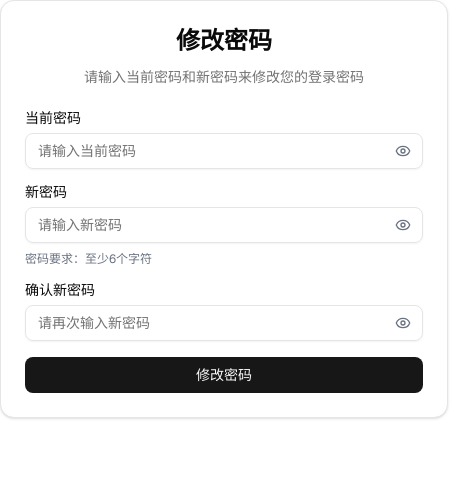
Test: ChangePasswordForm › 表单验证 › 应该显示错误当新密码长度不足
Type "oldpass123" into the password field labelled "当前密码" at coordinates (224, 151), box [25, 133, 423, 169]
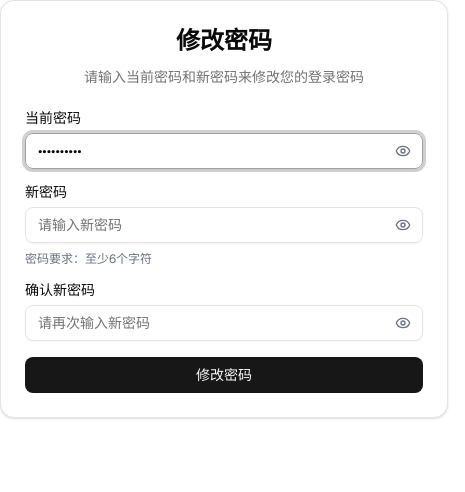
Type "12345" into the password field labelled "新密码" at coordinates (224, 225), box [25, 207, 423, 243]
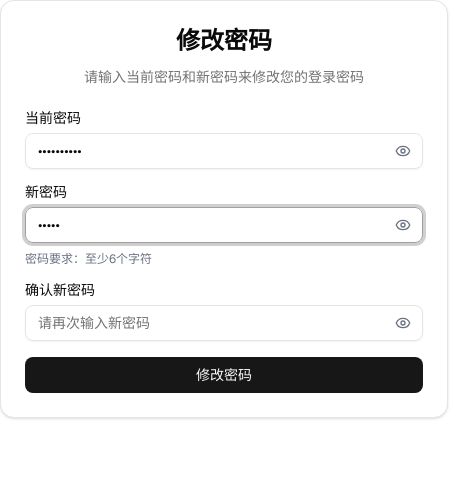
Click the button "修改密码" at coordinates (224, 375), box [25, 357, 423, 393]
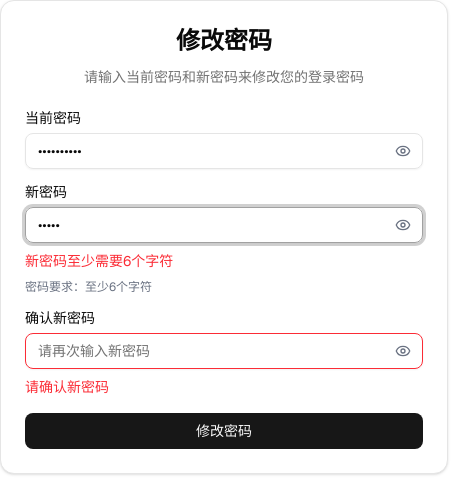
Result: the text "新密码至少需要6个字符" is shown at [25, 252, 173, 270]
